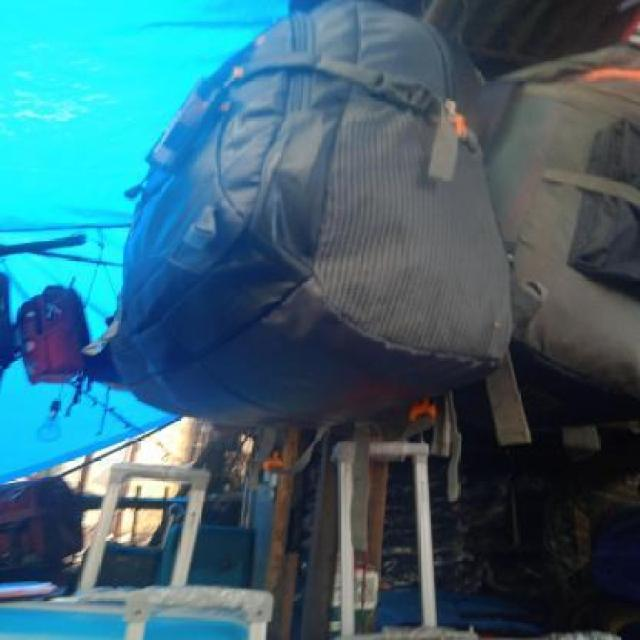backpack: (103, 0, 506, 440)
